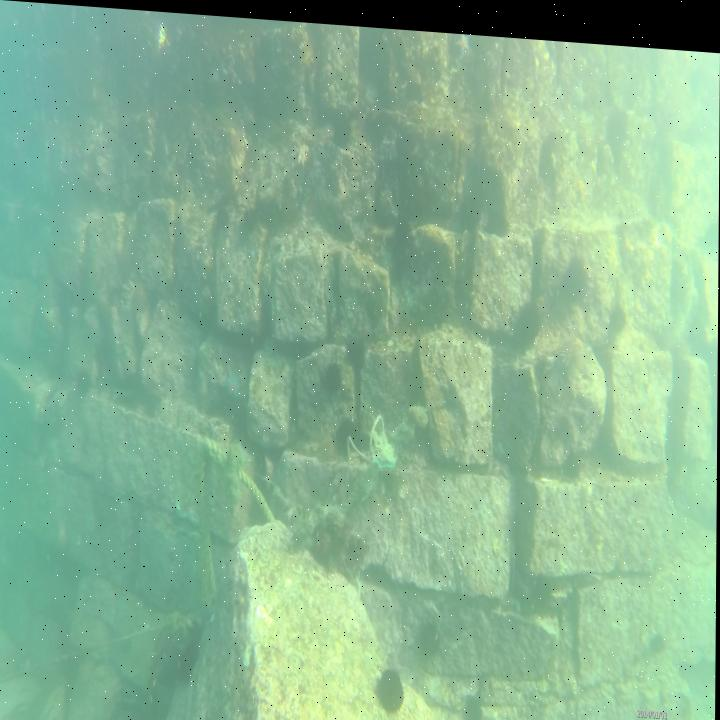echinus: (562, 237, 593, 304), (376, 654, 410, 714), (173, 629, 205, 685), (512, 284, 542, 341), (555, 322, 588, 371), (334, 408, 365, 457), (560, 429, 585, 478), (418, 606, 443, 653), (75, 354, 96, 400), (483, 197, 510, 231), (345, 329, 370, 364), (333, 108, 355, 147), (648, 616, 669, 649), (214, 197, 232, 233), (325, 356, 342, 392), (243, 202, 259, 235)
starfish: (224, 364, 249, 416), (570, 66, 590, 108), (452, 27, 473, 58)
